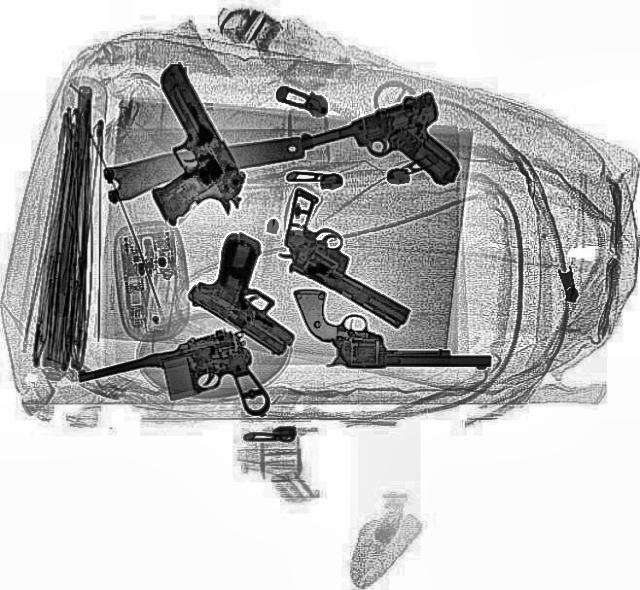Gun: (94, 58, 260, 236), (250, 186, 442, 328), (71, 322, 273, 452), (292, 89, 468, 218), (174, 226, 338, 358), (292, 288, 490, 368)
